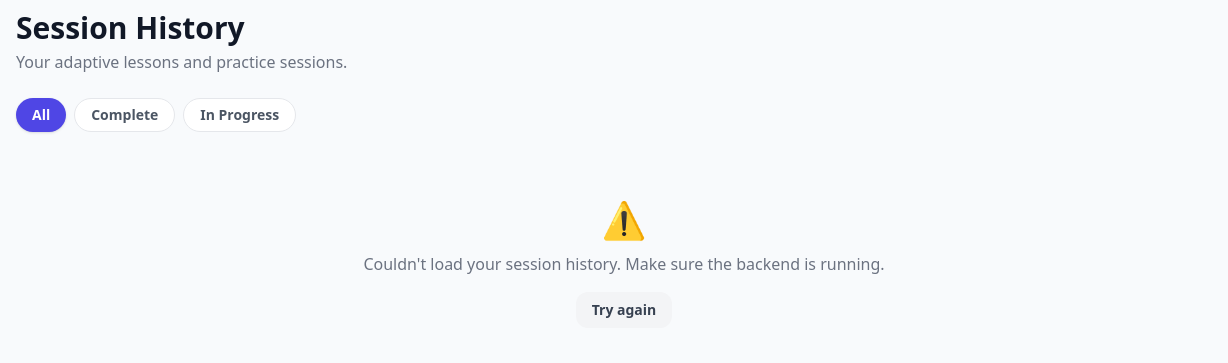
Scenario: retries without a page reload
Expected: the text "Couldn't load your session history" is shown, [363,253,885,275]
Click the button "Try again" at [624, 310], box [576,292,672,328]
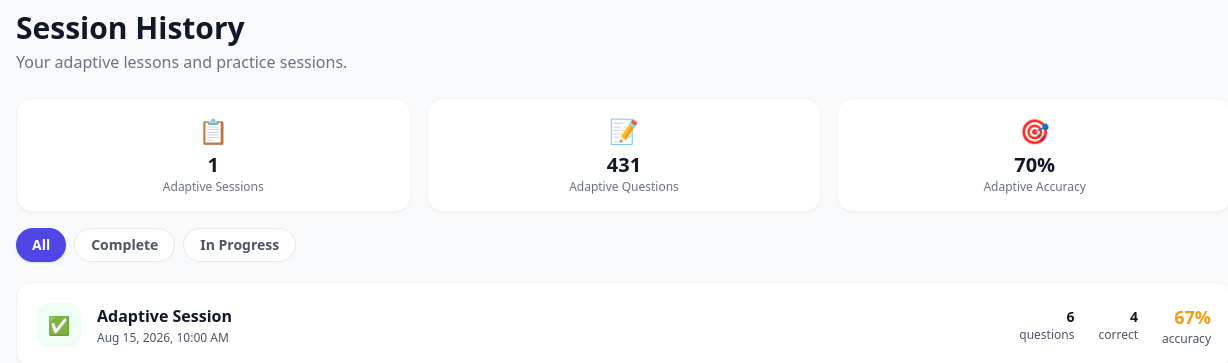
Result: the text "Couldn't load" is gone
